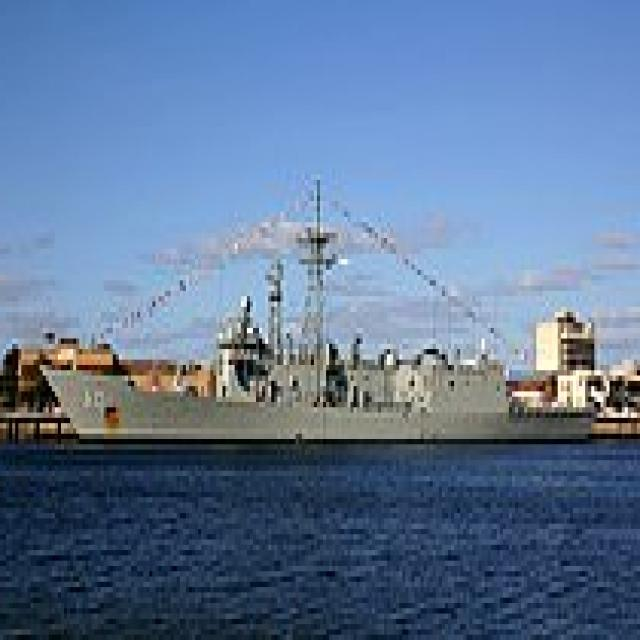Warship: (39, 170, 600, 444)
